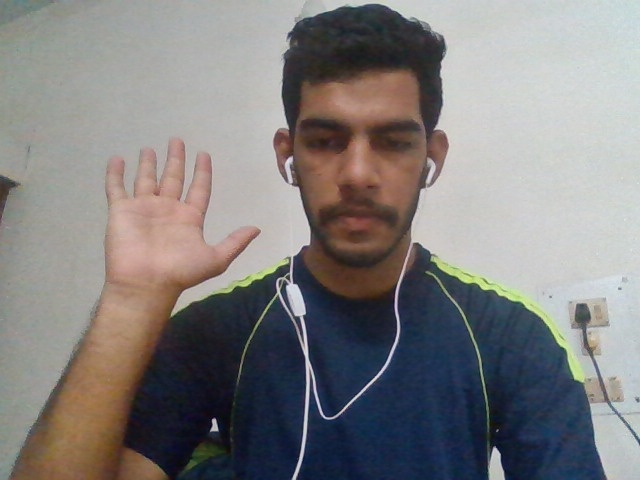hi: (85, 120, 274, 317)
